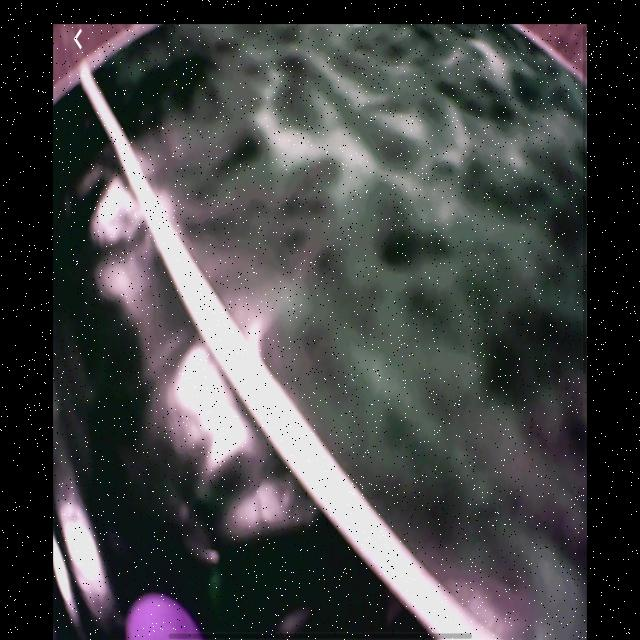ball: (129, 595, 196, 640)
